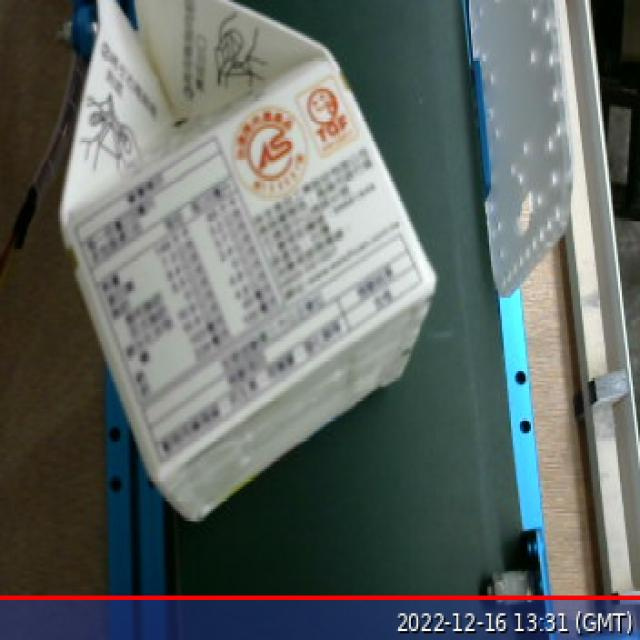non_white_jug: (48, 0, 449, 536)
